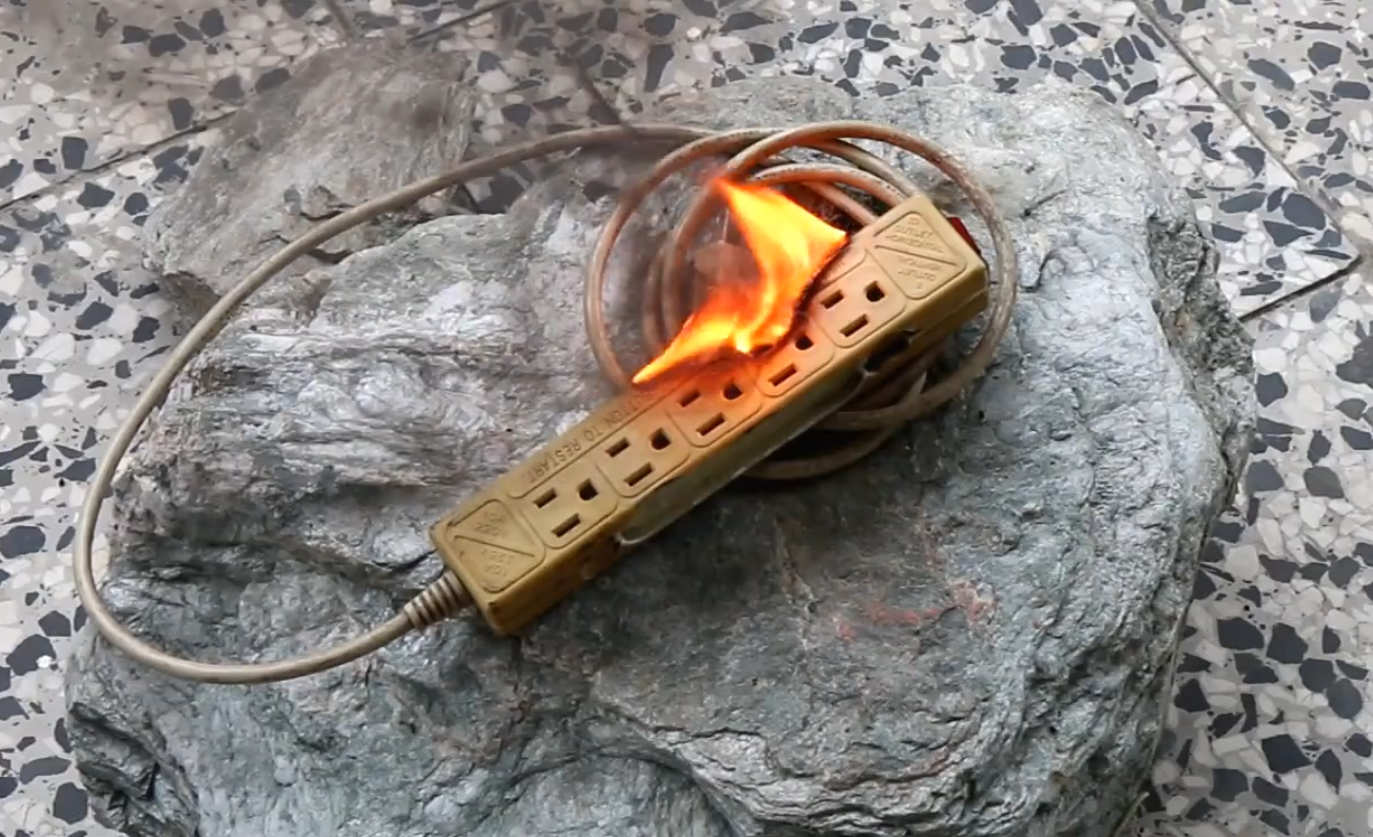Fire: (628, 167, 845, 397)
